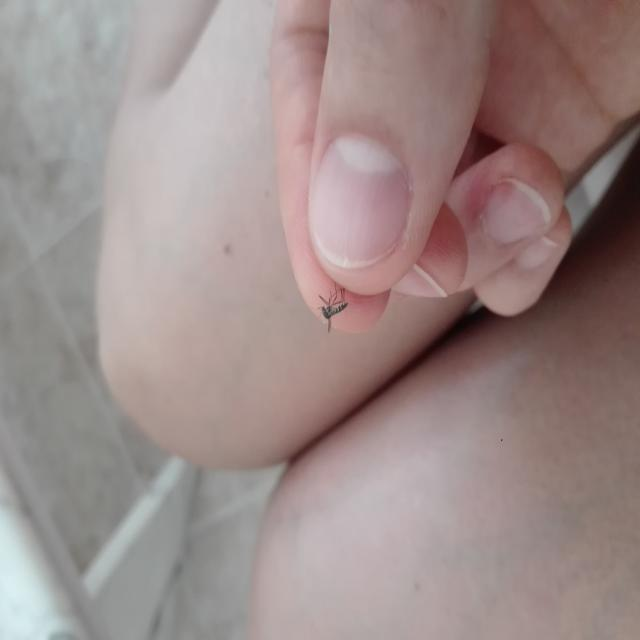albopictus: (309, 274, 352, 334)
